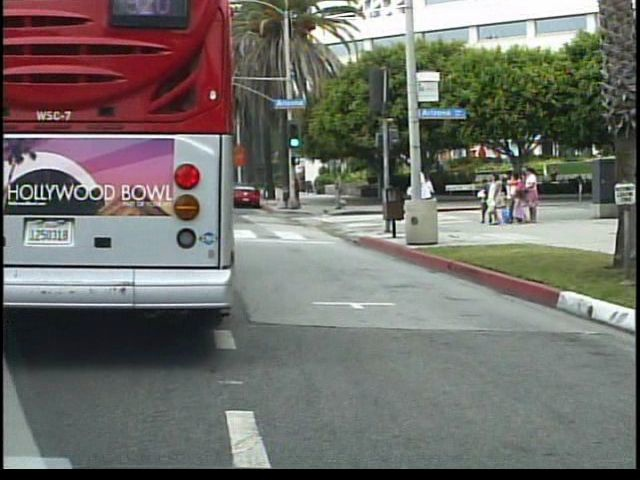person: (405, 161, 432, 240), (418, 170, 442, 233), (333, 169, 353, 213)
